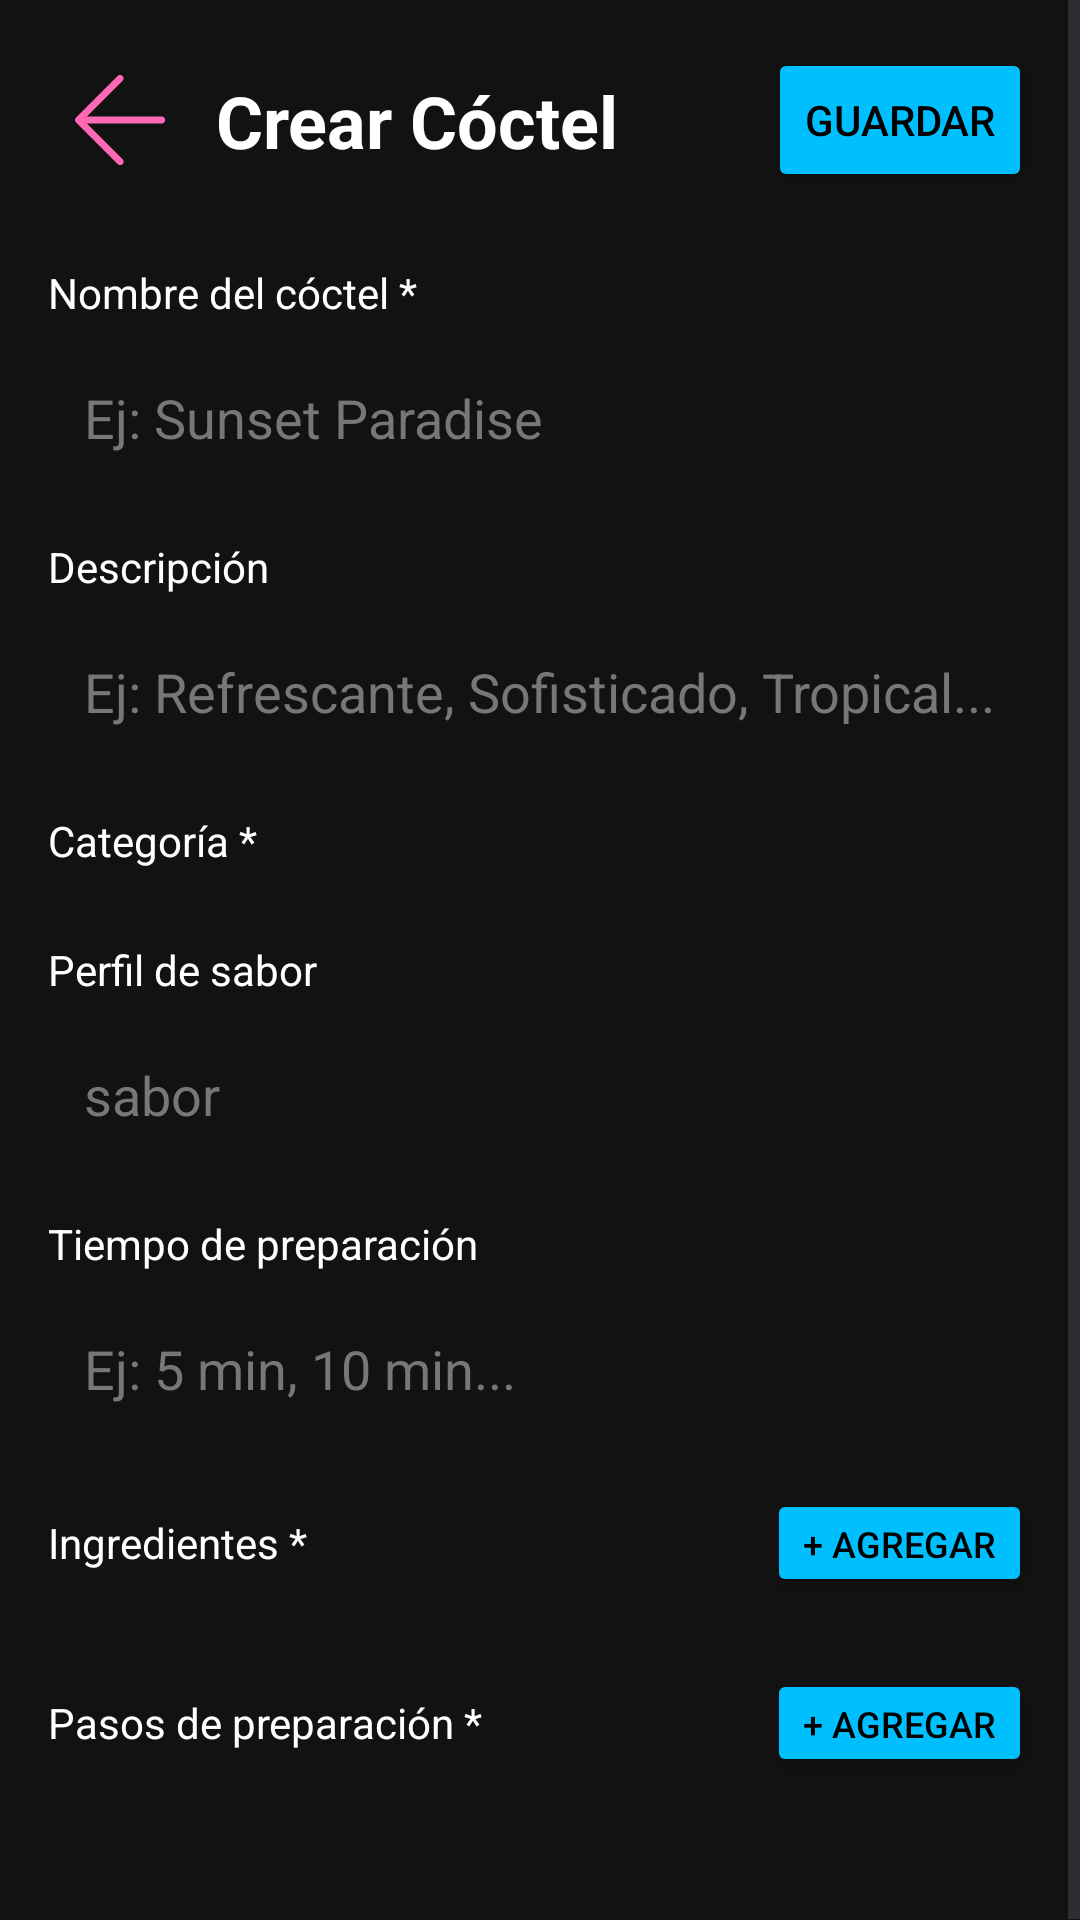

Locate icon controls on the screen. Image size 1080×1920, boxes as box(x1, y1, x2, y2).
Regresar: box(75, 75, 165, 165)
